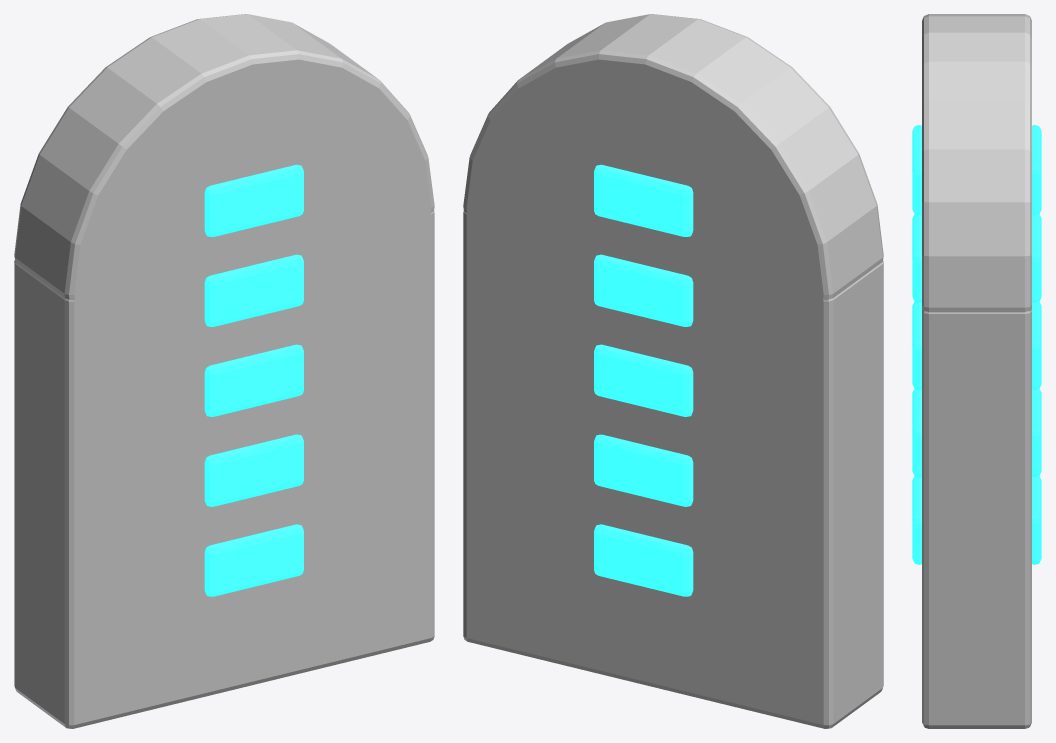
File: egipto_tablet.fbx
3 views of the same model, side by side, from view 1: azimuth 30°, elevation 25°; view 2: azimuth 150°, elevation 25°; view 3: azimuth 270°, elevation 25° (orthographic). The views are drawn at different scales.
Visible parts, largest first — view 1: egipto_tablet; view 2: egipto_tablet; view 3: egipto_tablet.
Boxes of the visible parts, x1,y1,x2,y2 form: egipto_tablet: (14,14,434,728); egipto_tablet: (463,14,883,728); egipto_tablet: (912,14,1041,728).
Size of the model in its own units: 0.602 by 0.981 by 0.188.
